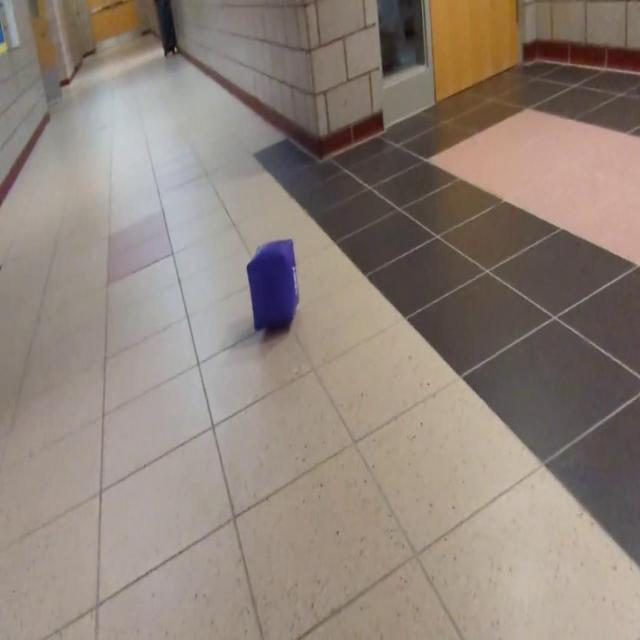frc_cube: (247, 240, 297, 333)
